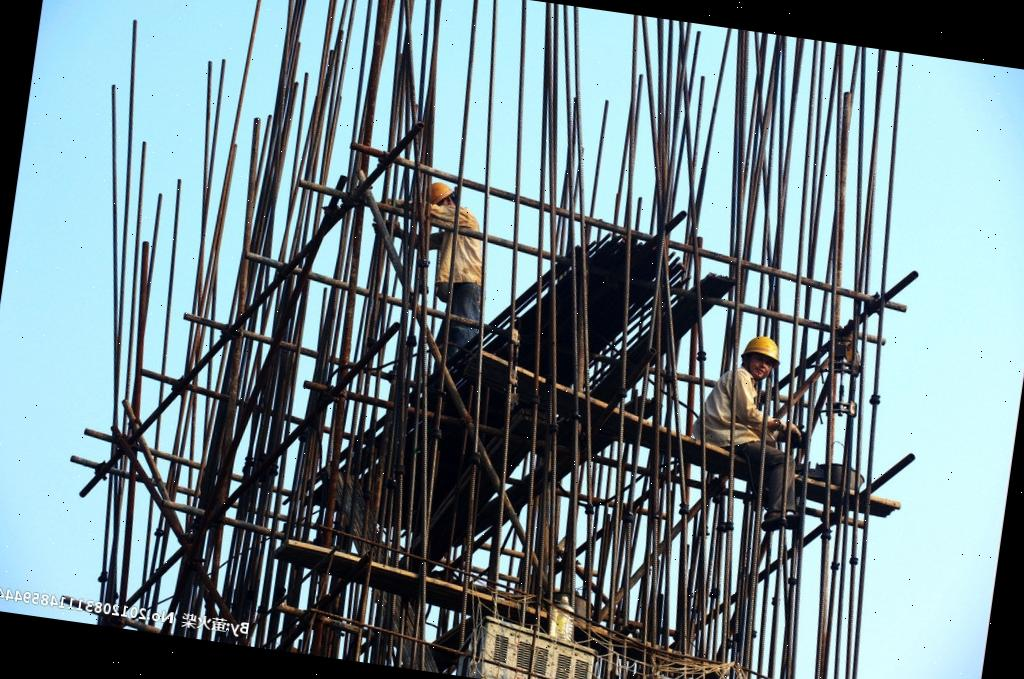helmet: (422, 174, 460, 212), (738, 329, 782, 361)
